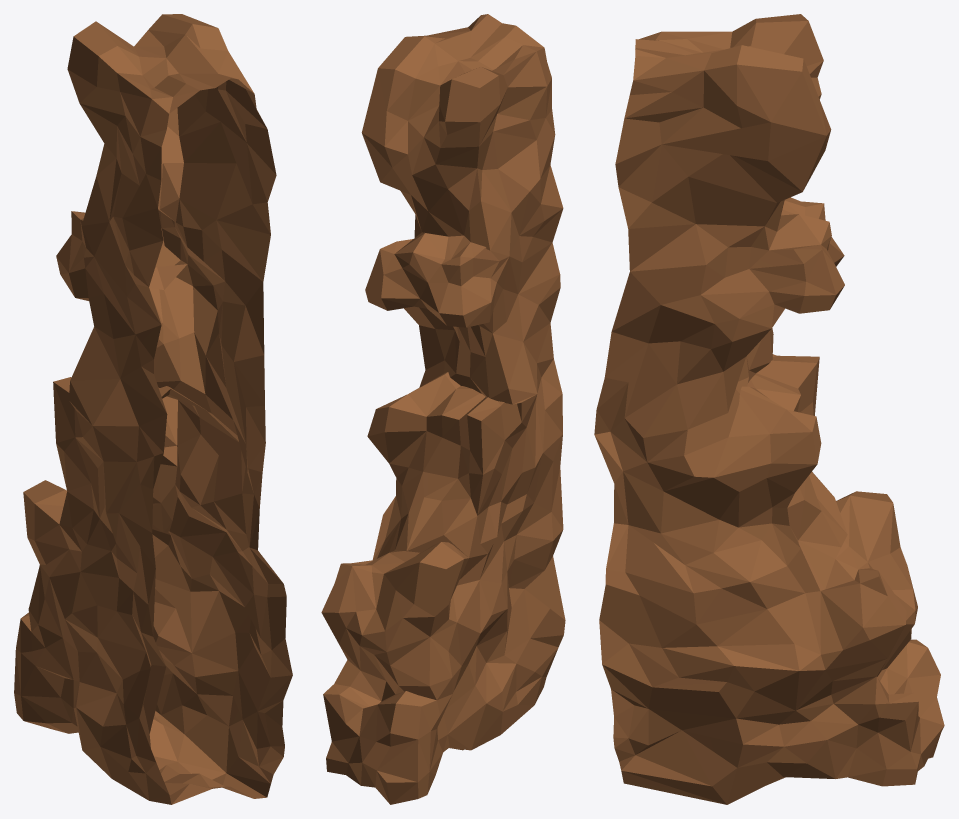
The model's file is stone1_hard.fbx.
3 views of the same model, side by side, from view 1: azimuth 30°, elevation 25°; view 2: azimuth 150°, elevation 25°; view 3: azimuth 270°, elevation 25° (orthographic). The views are drawn at different scales.
Parts seen in each view (by area): view 1: stone1; view 2: stone1; view 3: stone1.
Part boxes in pixels (bbox=[...]): stone1: bbox=[14, 14, 292, 804]; stone1: bbox=[321, 14, 565, 804]; stone1: bbox=[594, 14, 944, 804].
Bounding box in the file's own units: 754 × 3273 × 1382.
